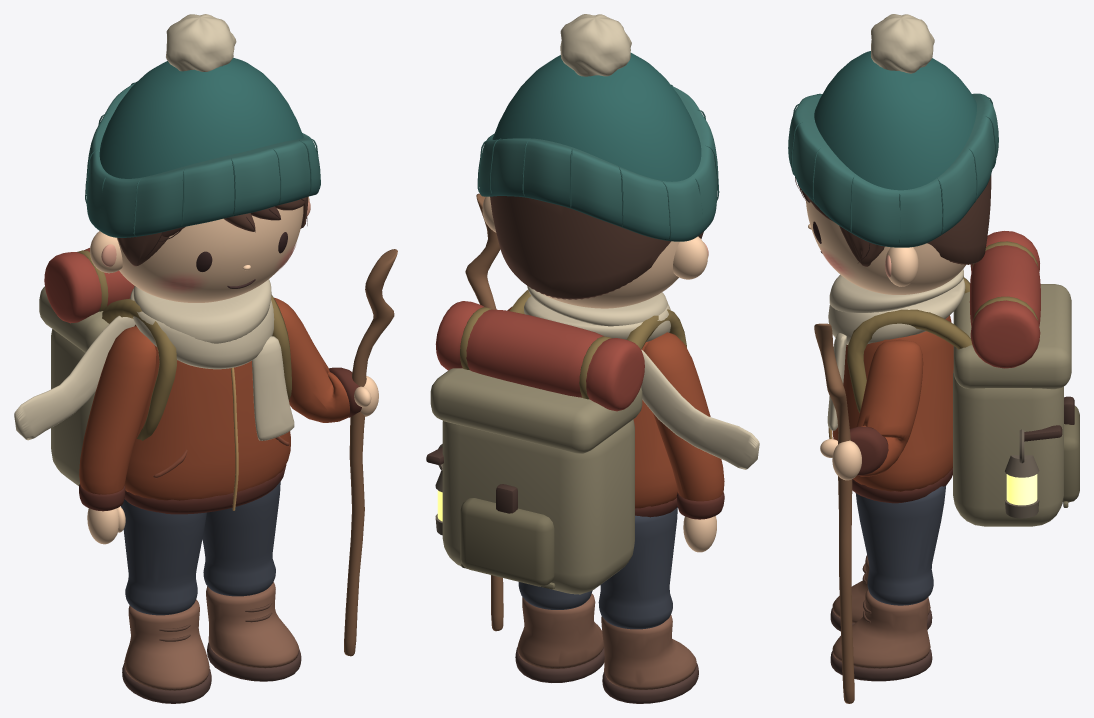
File: traveler.glb
3 renders of one model, left to right at view 1: azimuth 30°, elevation 25°; view 2: azimuth 150°, elevation 25°; view 3: azimuth 270°, elevation 25°, orthographic. The views are drawn at different scales.
Parts seen in each view (by area): view 1: head, body, legL, legR, armR, armL, pack, scarf; view 2: pack, head, legL, body, armL, legR, scarf, armR; view 3: head, pack, body, legR, armR, charm, legL.
Part boxes in pixels (bbox=[...]): head: bbox=[85, 14, 320, 302]; body: bbox=[102, 279, 294, 514]; legL: bbox=[121, 499, 211, 703]; legR: bbox=[202, 482, 301, 681]; armR: bbox=[274, 249, 397, 656]; armL: bbox=[79, 326, 156, 544]; pack: bbox=[39, 248, 134, 485]; scarf: bbox=[14, 315, 135, 440]; pack: bbox=[426, 301, 644, 594]; head: bbox=[477, 14, 719, 308]; legL: bbox=[598, 507, 698, 703]; body: bbox=[509, 286, 686, 517]; armL: bbox=[644, 332, 724, 552]; legR: bbox=[515, 582, 604, 682]; scarf: bbox=[641, 349, 759, 469]; armR: bbox=[465, 193, 511, 631]; head: bbox=[788, 14, 998, 294]; pack: bbox=[953, 231, 1079, 526]; body: bbox=[827, 269, 972, 503]; legR: bbox=[830, 485, 945, 681]; armR: bbox=[814, 323, 923, 703]; charm: bbox=[1004, 429, 1039, 518]; legL: bbox=[830, 555, 932, 631].
Bounding box in the file's own units: 0.7187 × 1.34 × 0.5643.
Materials: 8 (1 with a texture image).
